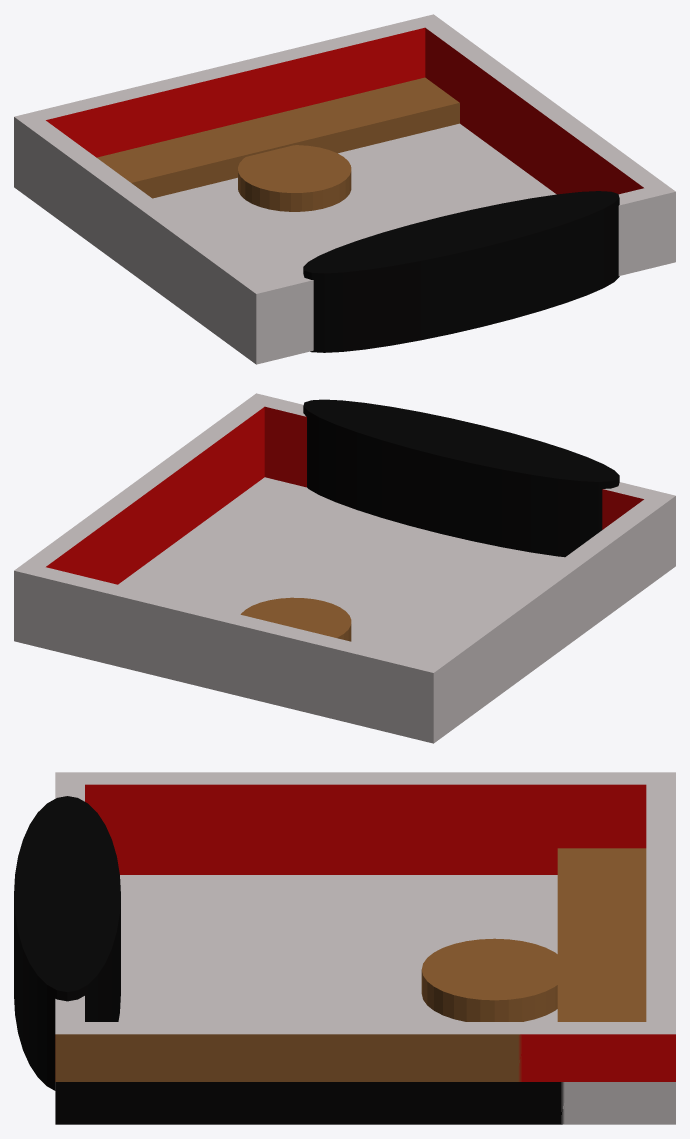
Rendered from Standup_Stage.fbx.
3 renders of one model, top to bottom at view 1: azimuth 30°, elevation 25°; view 2: azimuth 150°, elevation 25°; view 3: azimuth 270°, elevation 25°, orthographic. The views are drawn at different scales.
Visible parts, largest first — view 1: Concert Hall, Rear wall, Scene; view 2: Concert Hall, Rear wall, Scene; view 3: Concert Hall, Rear wall, Scene.
Part boxes in pixels (bbox=[...]): Concert Hall: bbox=[14, 14, 675, 364]; Rear wall: bbox=[303, 191, 619, 352]; Scene: bbox=[238, 145, 351, 211]; Concert Hall: bbox=[14, 393, 675, 743]; Rear wall: bbox=[303, 399, 619, 557]; Scene: bbox=[240, 597, 351, 641]; Concert Hall: bbox=[55, 772, 675, 1124]; Rear wall: bbox=[14, 796, 120, 1090]; Scene: bbox=[421, 938, 557, 1021].
Size of the model in its own units: 2000 by 468 by 2134.
